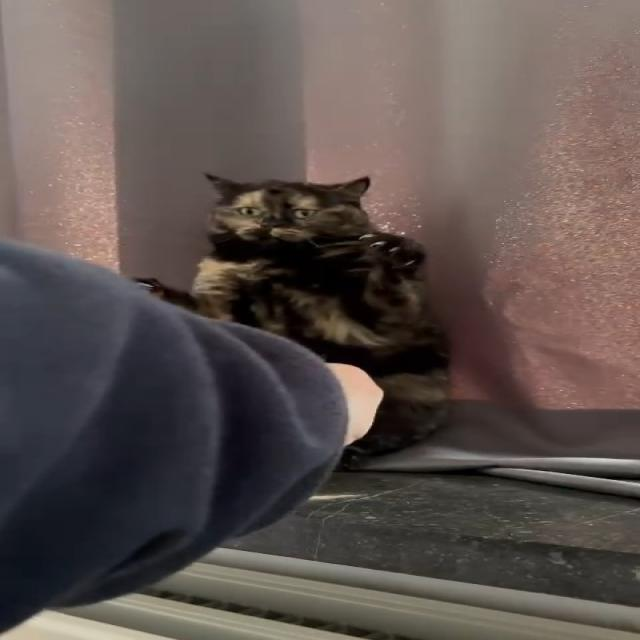authorized: (187, 171, 452, 468)
